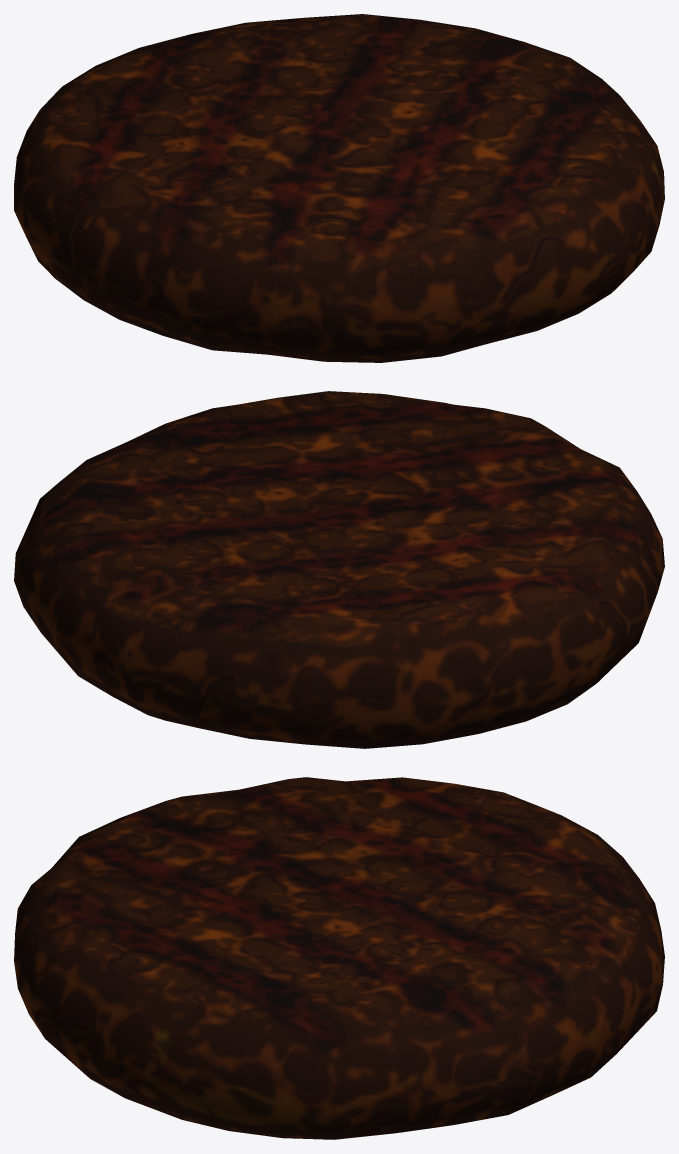
File: SM_BurgerPattyBurned.glb
The picture shows the model from 3 angles, top to bottom: view 1: azimuth 30°, elevation 25°; view 2: azimuth 150°, elevation 25°; view 3: azimuth 270°, elevation 25°; orthographic projection.
Visible parts, largest first — view 1: SM_BurgerPattyBurned; view 2: SM_BurgerPattyBurned; view 3: SM_BurgerPattyBurned.
Boxes of the visible parts, x1,y1,x2,y2 form: SM_BurgerPattyBurned: (14, 14, 664, 362); SM_BurgerPattyBurned: (14, 391, 664, 748); SM_BurgerPattyBurned: (14, 777, 664, 1139).
Bounding box in the file's own units: 0.1748 × 0.0362 × 0.1719.
Materials: 1 (1 with a texture image).
